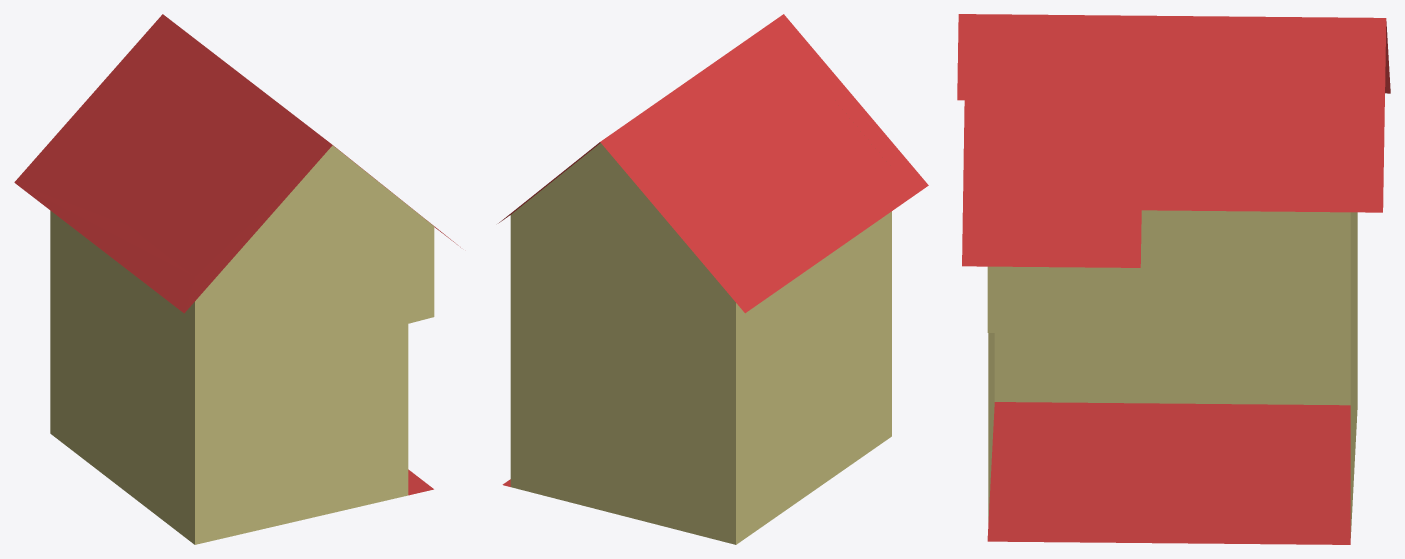
The picture shows the model from 3 angles, left to right: view 1: azimuth 30°, elevation 25°; view 2: azimuth 150°, elevation 25°; view 3: azimuth 270°, elevation 25°; orthographic projection. The views are drawn at different scales.
Size of the model in its own units: 12.34 by 13.4 by 15.71.
